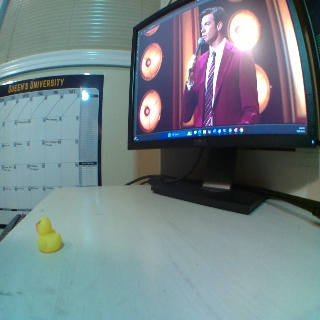duck_regular: (35, 217, 63, 253)
